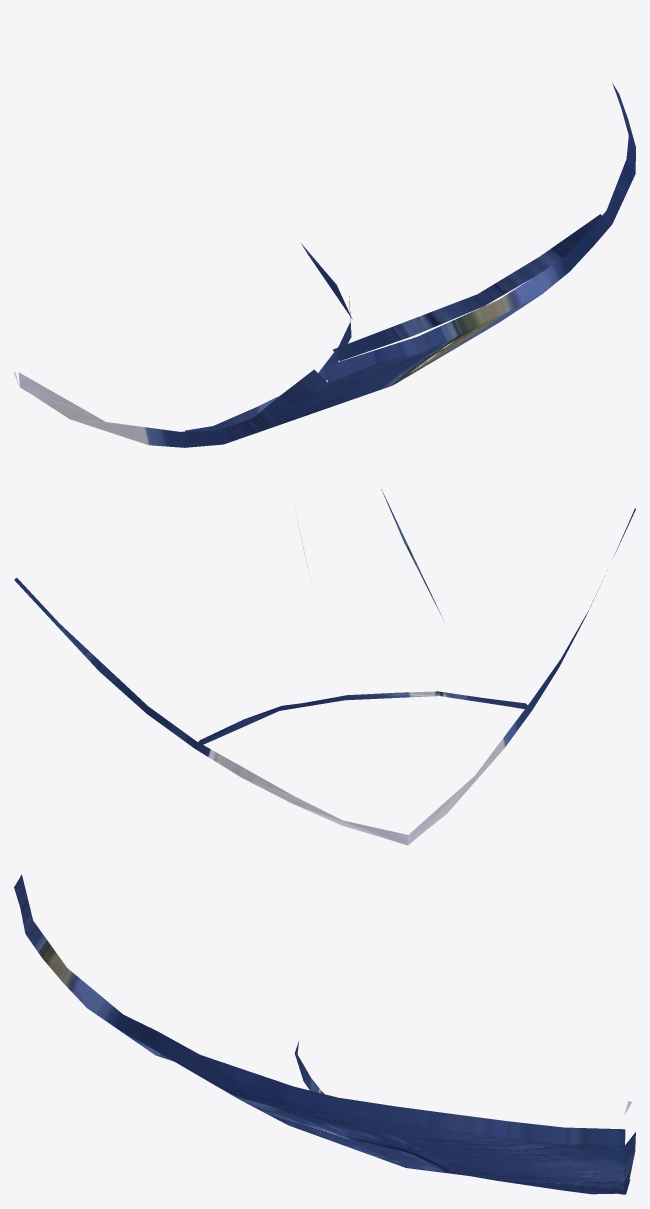
The picture shows the model from 3 angles, top to bottom: view 1: azimuth 30°, elevation 25°; view 2: azimuth 150°, elevation 25°; view 3: azimuth 270°, elevation 25°; orthographic projection. The views are drawn at different scales.
Bounding box in the file's own units: 4630468 × 2012879 × 4636176.
Materials: 1 (1 with a texture image).
